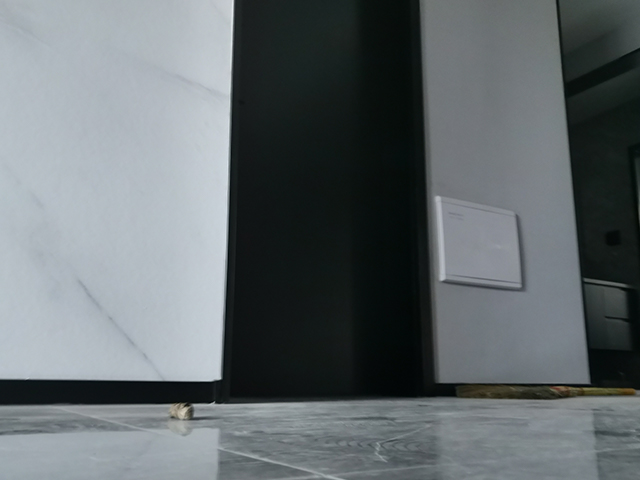cabinet: (580, 274, 640, 385)
feces: (169, 399, 196, 426)
